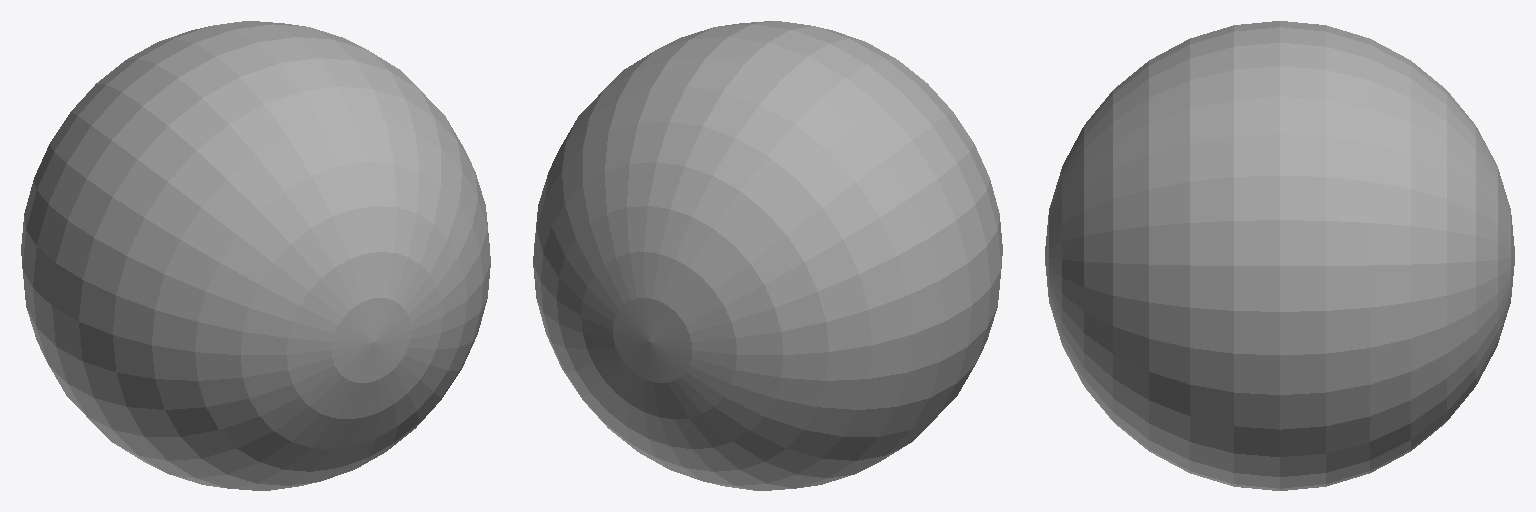
The model's file is SpherePrimitive.obj.
3 views of the same model, side by side, from view 1: azimuth 30°, elevation 25°; view 2: azimuth 150°, elevation 25°; view 3: azimuth 270°, elevation 25° (orthographic).
Visible parts, largest first — view 1: Sphere; view 2: Sphere; view 3: Sphere.
Boxes of the visible parts, box(x1,y1,x2,y2) form: Sphere: box(21, 21, 490, 490); Sphere: box(533, 21, 1002, 490); Sphere: box(1045, 21, 1514, 490).
Bounding box in the file's own units: 1 × 1 × 1.